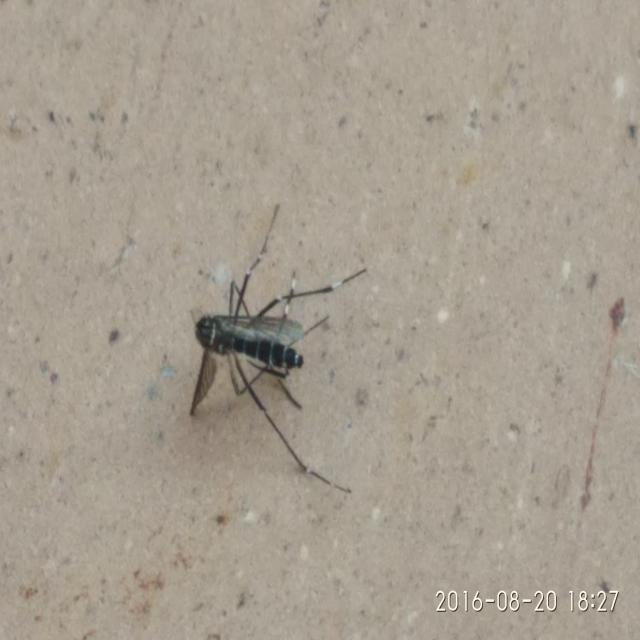albopictus: (180, 191, 370, 499)
